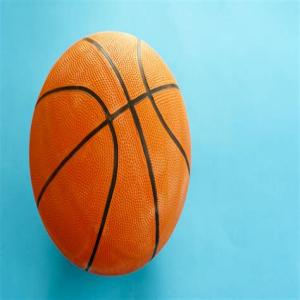Basket: (29, 30, 192, 276)
